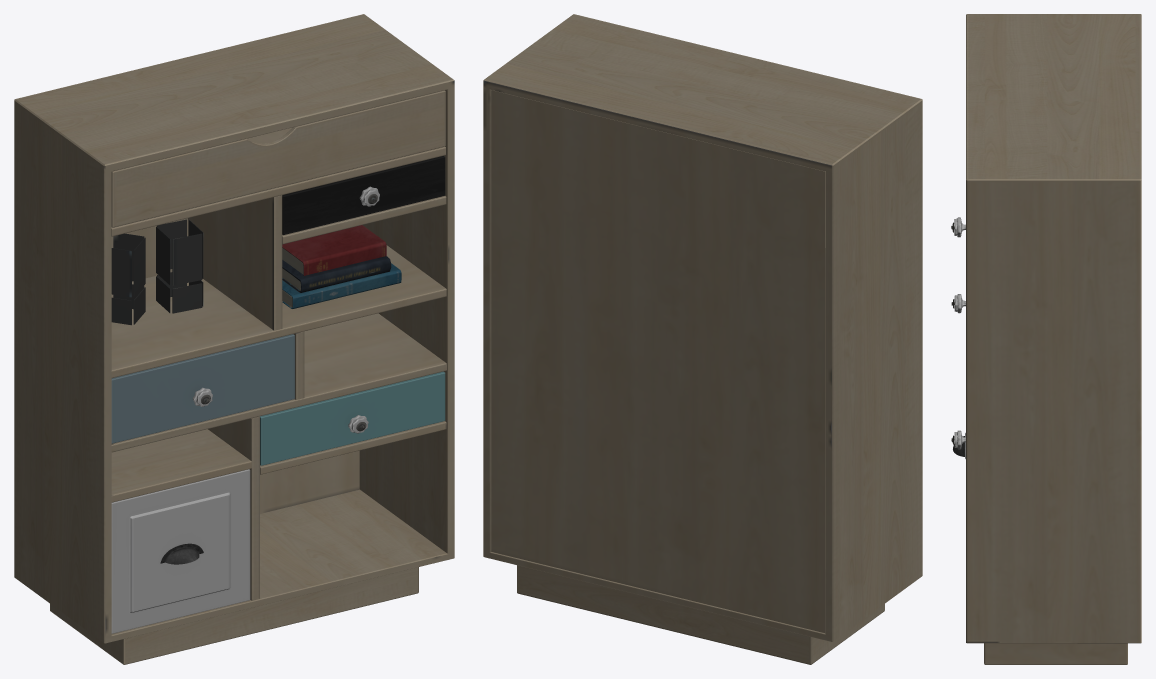
The model's file is Children_Cabinet_05ce3858-2af0-5906-8ef6-e328f0657ee3.glb.
The picture shows the model from 3 angles, left to right: view 1: azimuth 30°, elevation 25°; view 2: azimuth 150°, elevation 25°; view 3: azimuth 270°, elevation 25°; orthographic projection. The views are drawn at different scales.
Parts seen in each view (by area): view 1: raw_model.obj; view 2: raw_model.obj; view 3: raw_model.obj.
Boxes of the visible parts, x1=… form: raw_model.obj: x1=14, y1=14, x2=454, y2=664; raw_model.obj: x1=483, y1=14, x2=922, y2=664; raw_model.obj: x1=951, y1=14, x2=1141, y2=664.
Size of the model in its own units: 0.761 by 1.07 by 0.3694.
Materials: 1 (1 with a texture image).
